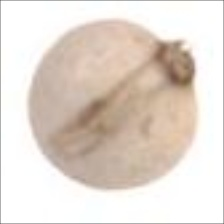L5: (45, 57, 170, 160), (155, 36, 197, 88)
L6: (26, 17, 200, 192)
